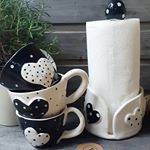cups: (7, 66, 92, 120), (13, 104, 88, 150)
